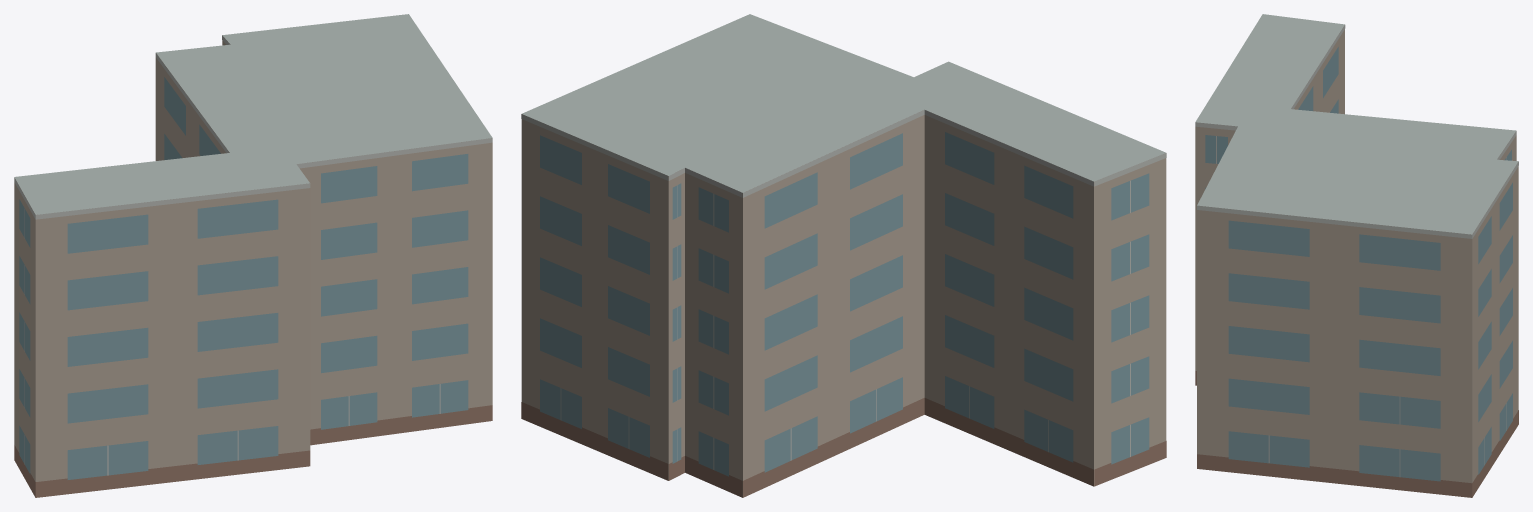
The model's file is survey-upis-32692233.glb.
3 views of the same model, side by side, from view 1: azimuth 30°, elevation 25°; view 2: azimuth 150°, elevation 25°; view 3: azimuth 270°, elevation 25° (orthographic). The views are drawn at different scales.
Parts seen in each view (by area): view 1: survey-upis-32692233.tmp; view 2: survey-upis-32692233.tmp; view 3: survey-upis-32692233.tmp.
Boxes of the visible parts, x1=… form: survey-upis-32692233.tmp: x1=14, y1=14, x2=492, y2=497; survey-upis-32692233.tmp: x1=521, y1=14, x2=1166, y2=497; survey-upis-32692233.tmp: x1=1195, y1=14, x2=1518, y2=497.
Bounding box in the file's own units: 26.33 × 14.65 × 16.33.
